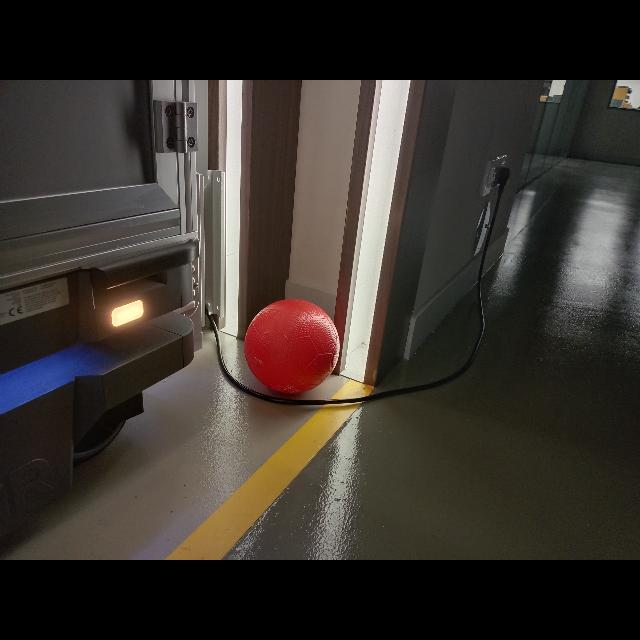R: (244, 298, 340, 397)
